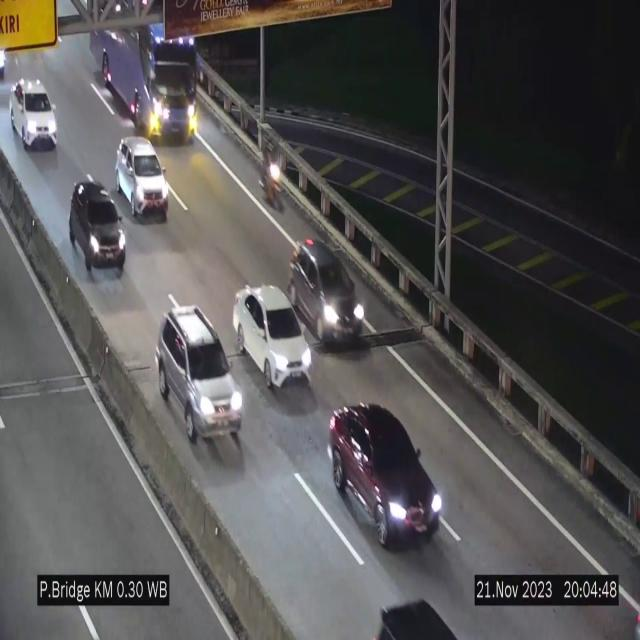Bus: (83, 0, 203, 155)
Car: (329, 405, 442, 545), (156, 306, 244, 442), (232, 286, 312, 388), (292, 239, 364, 351), (70, 179, 125, 278), (115, 137, 169, 219), (11, 79, 57, 149)
Motorcycle: (262, 135, 287, 215)
